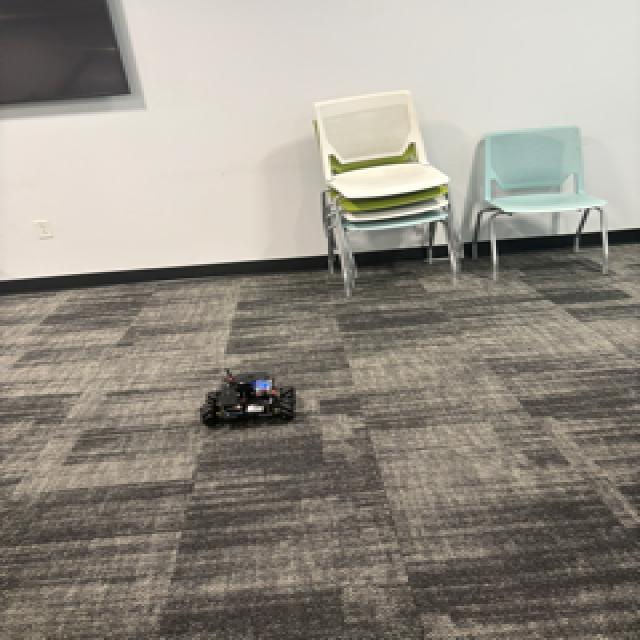ArduinoCar3: (200, 364, 300, 426)
